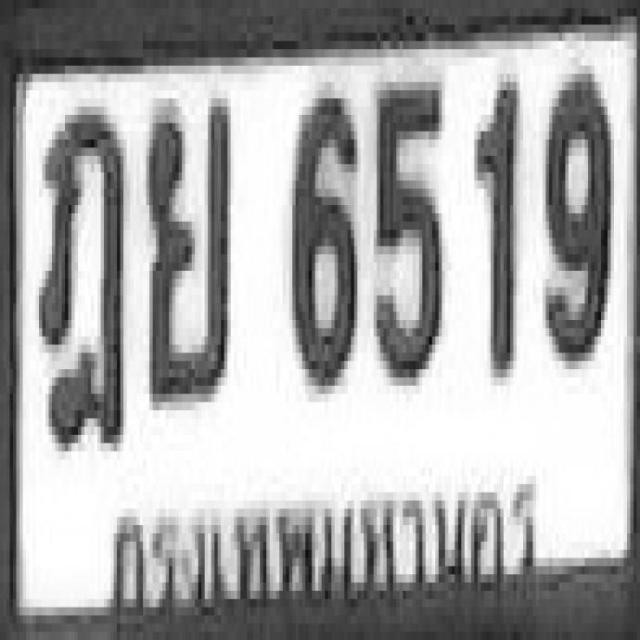1: (471, 72, 516, 373)
5: (372, 77, 440, 378)
6: (287, 87, 353, 384)
9: (541, 66, 608, 357)
A14: (35, 99, 122, 446)
A34: (144, 91, 227, 394)
BKK: (101, 468, 547, 613)
